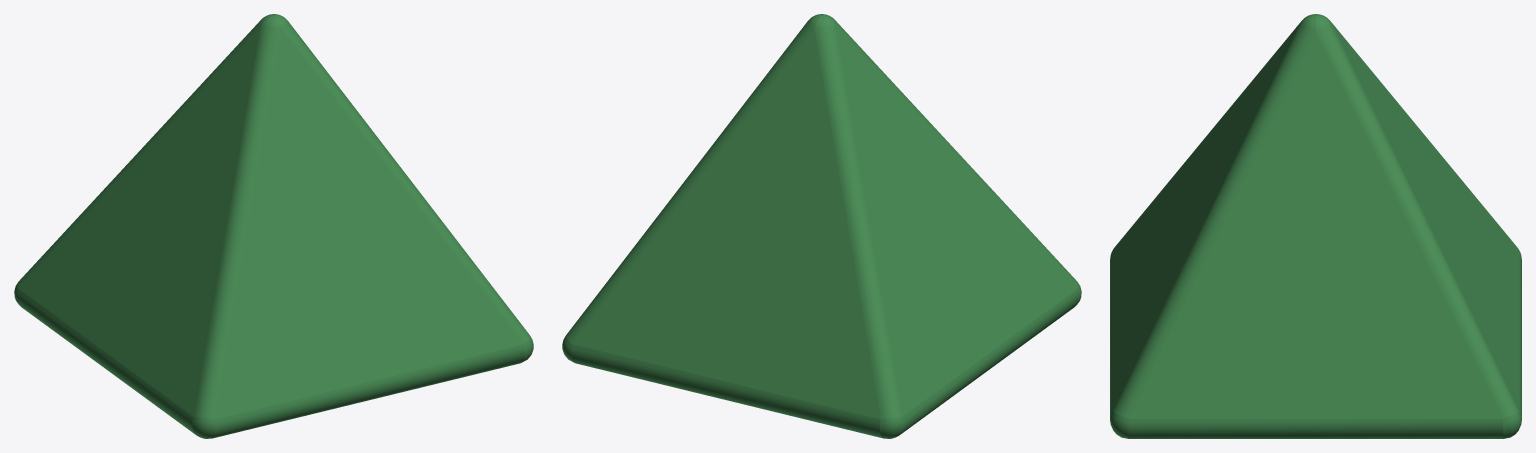
The picture shows the model from 3 angles, left to right: view 1: azimuth 30°, elevation 25°; view 2: azimuth 150°, elevation 25°; view 3: azimuth 270°, elevation 25°; orthographic projection. The views are drawn at different scales.
Visible parts, largest first — view 1: Pyramid; view 2: Pyramid; view 3: Pyramid.
Boxes of the visible parts, x1=… form: Pyramid: x1=14, y1=14, x2=533, y2=438; Pyramid: x1=562, y1=14, x2=1081, y2=438; Pyramid: x1=1110, y1=14, x2=1521, y2=438.
Size of the model in its own units: 0.111 by 0.1 by 0.1094.
